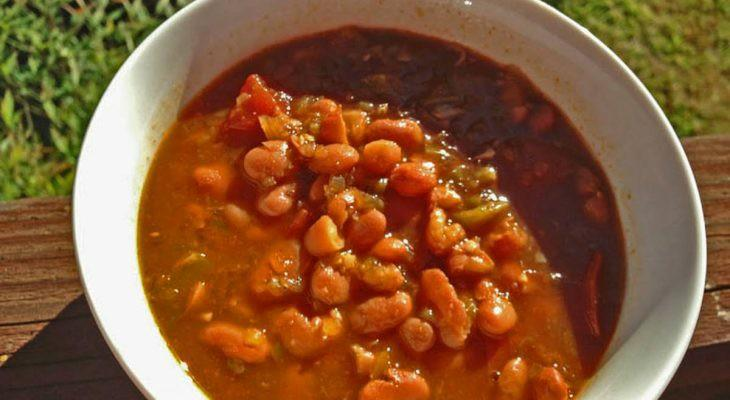RajmaCurry: (137, 27, 621, 400)
